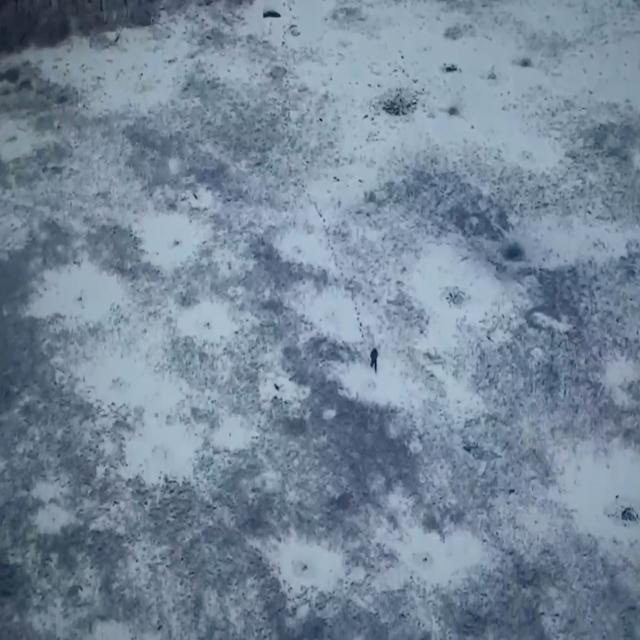infantry: (368, 345, 383, 376)
